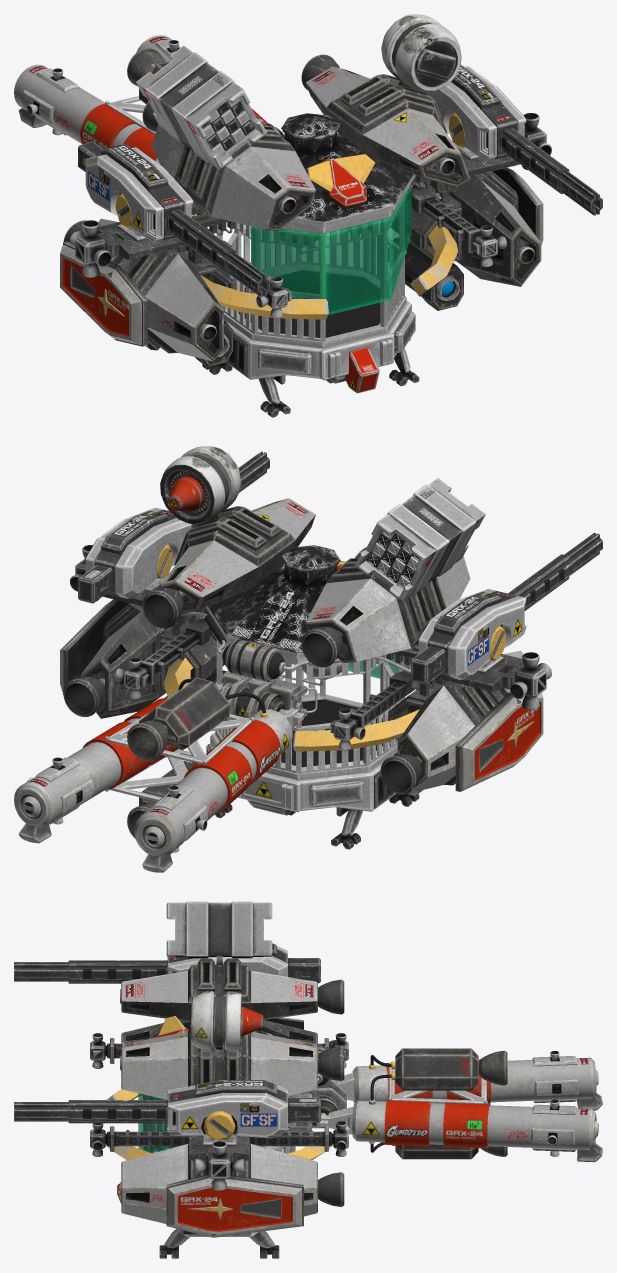
Rendered from spacecraft2-v1.glb.
3 renders of one model, top to bottom at view 1: azimuth 30°, elevation 25°; view 2: azimuth 150°, elevation 25°; view 3: azimuth 270°, elevation 25°, orthographic. The views are drawn at different scales.
Parts seen in each view (by area): view 1: thrusters_primary_1, gazebo_core_8, radome_missile_0, big_guns_4, visor_7, thrusters_aux_3, RCS_LG_5, extra_bits_6, fixed_tubes_2; view 2: thrusters_primary_1, thrusters_aux_3, radome_missile_0, gazebo_core_8, big_guns_4, RCS_LG_5, fixed_tubes_2, extra_bits_6; view 3: thrusters_primary_1, thrusters_aux_3, radome_missile_0, big_guns_4, RCS_LG_5, extra_bits_6, fixed_tubes_2, gazebo_core_8, visor_7.
Boxes of the visible parts, bbox=[...] form: thrusters_primary_1: bbox=[63, 54, 541, 361]; gazebo_core_8: bbox=[216, 113, 415, 380]; radome_missile_0: bbox=[60, 14, 543, 366]; big_guns_4: bbox=[78, 65, 602, 296]; visor_7: bbox=[251, 187, 411, 314]; thrusters_aux_3: bbox=[14, 35, 268, 165]; RCS_LG_5: bbox=[70, 113, 551, 417]; extra_bits_6: bbox=[192, 154, 457, 393]; fixed_tubes_2: bbox=[213, 123, 421, 253]; thrusters_primary_1: bbox=[63, 498, 524, 794]; thrusters_aux_3: bbox=[14, 677, 303, 872]; radome_missile_0: bbox=[60, 446, 543, 795]; gazebo_core_8: bbox=[206, 545, 404, 812]; big_guns_4: bbox=[78, 451, 602, 684]; RCS_LG_5: bbox=[70, 545, 551, 849]; fixed_tubes_2: bbox=[181, 611, 410, 729]; extra_bits_6: bbox=[163, 561, 419, 751]; thrusters_primary_1: bbox=[120, 958, 344, 1235]; thrusters_aux_3: bbox=[316, 1048, 602, 1162]; radome_missile_0: bbox=[166, 901, 303, 1237]; big_guns_4: bbox=[14, 943, 320, 1145]; RCS_LG_5: bbox=[90, 1033, 348, 1258]; extra_bits_6: bbox=[105, 1016, 333, 1203]; fixed_tubes_2: bbox=[286, 1045, 346, 1131]; gazebo_core_8: bbox=[143, 1022, 295, 1236]; visor_7: bbox=[138, 1093, 177, 1152].
Bounding box in the file's own units: 25.52 × 17.54 × 32.77.
Materials: 9 (9 with a texture image).
